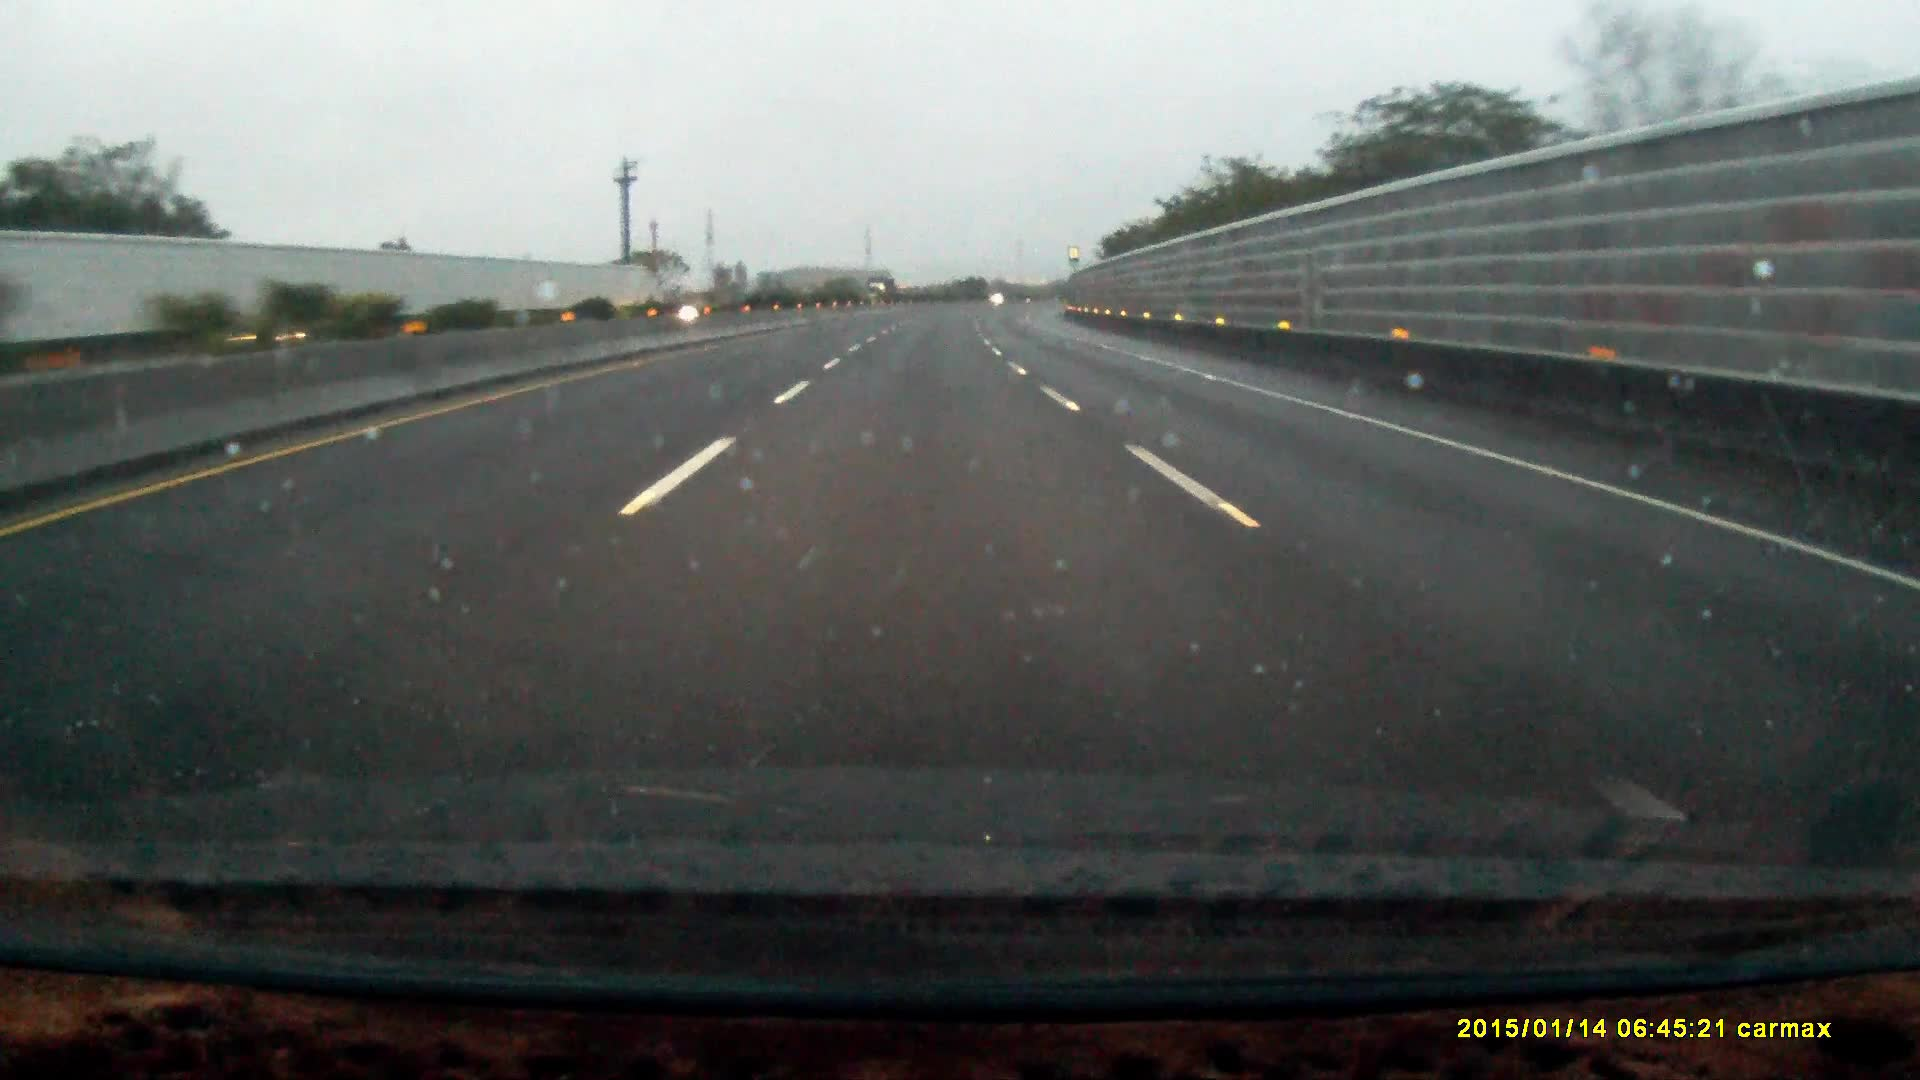vehicle: (868, 276, 897, 303)
